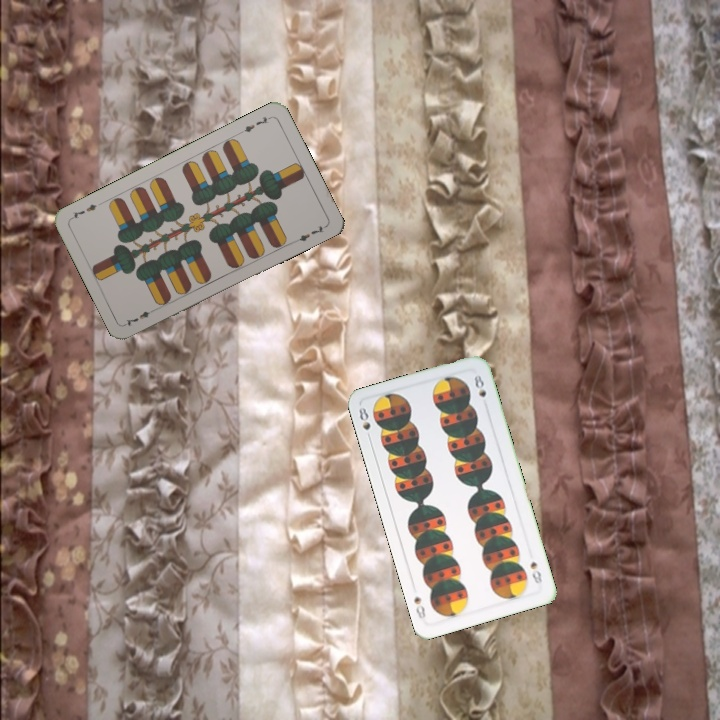E7: (236, 112, 274, 136), (122, 304, 159, 328)
S8: (355, 403, 374, 443), (526, 557, 545, 586)
